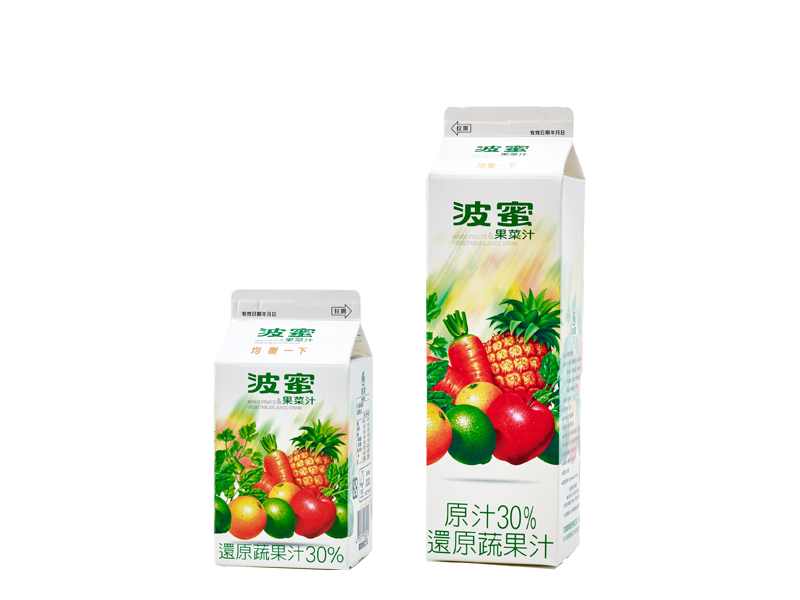vegetables juice: (414, 92, 587, 579), (206, 282, 382, 573)
